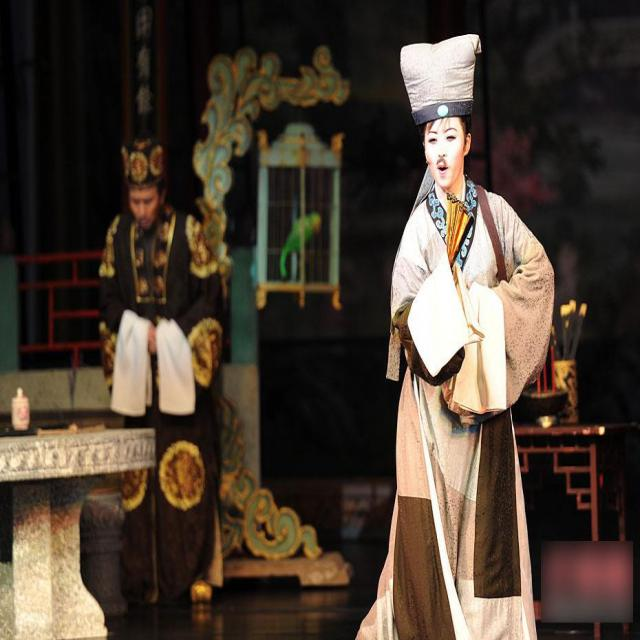Manusia: (358, 18, 586, 640)
